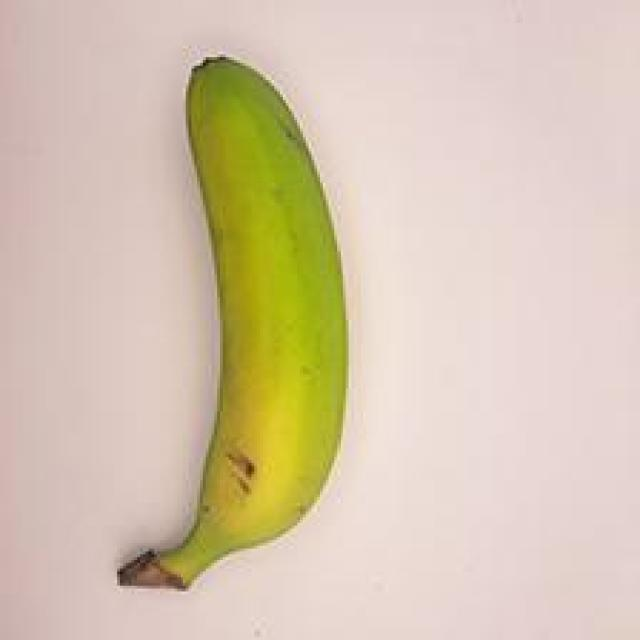Unripe: (96, 36, 387, 615)
